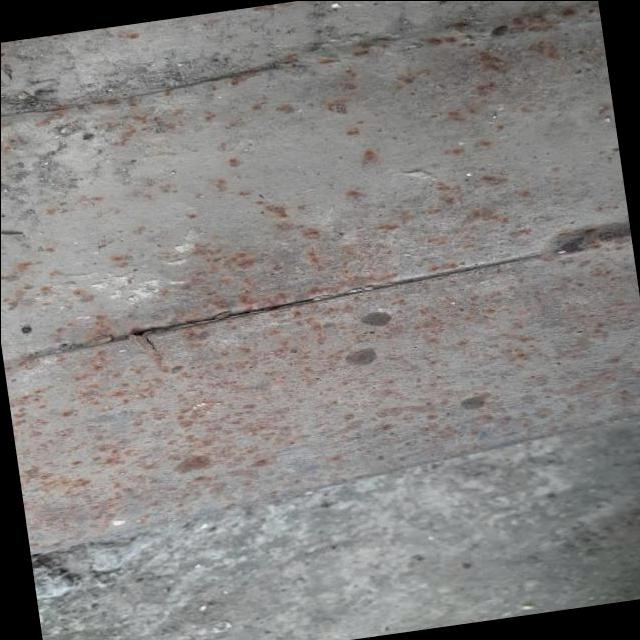defect: (113, 291, 342, 356)
